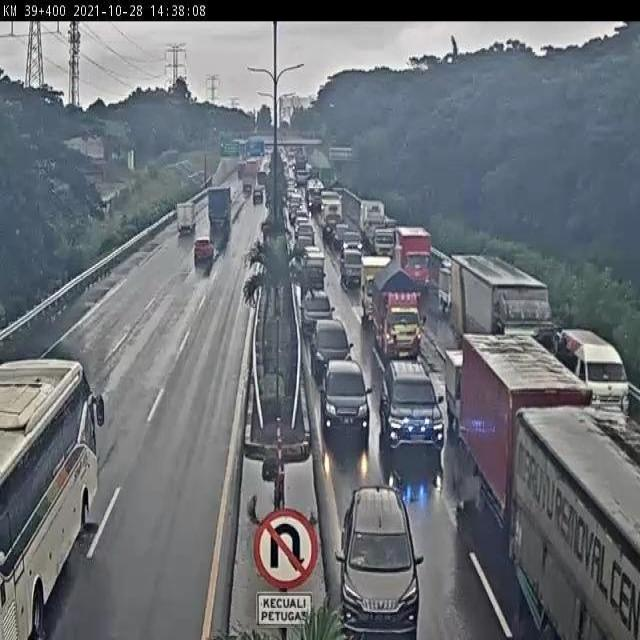Bus: (0, 353, 110, 640)
Car: (336, 484, 423, 635), (380, 358, 444, 457), (321, 360, 371, 440), (311, 315, 354, 384), (302, 291, 334, 342), (339, 248, 364, 287), (339, 230, 364, 257), (296, 222, 315, 248), (193, 238, 215, 259), (333, 223, 351, 247), (294, 214, 310, 237), (253, 190, 263, 204)
Truck: (509, 406, 639, 638), (455, 334, 593, 534), (449, 255, 555, 346), (370, 260, 428, 360), (394, 226, 432, 287), (444, 344, 468, 436), (359, 255, 390, 321), (300, 245, 325, 289), (358, 198, 384, 240), (206, 186, 233, 223), (367, 225, 396, 259), (322, 195, 343, 240), (438, 260, 454, 310), (305, 177, 327, 210), (176, 202, 196, 235), (245, 158, 259, 181), (241, 169, 253, 193), (258, 169, 268, 186)
Van: (553, 326, 634, 415)
